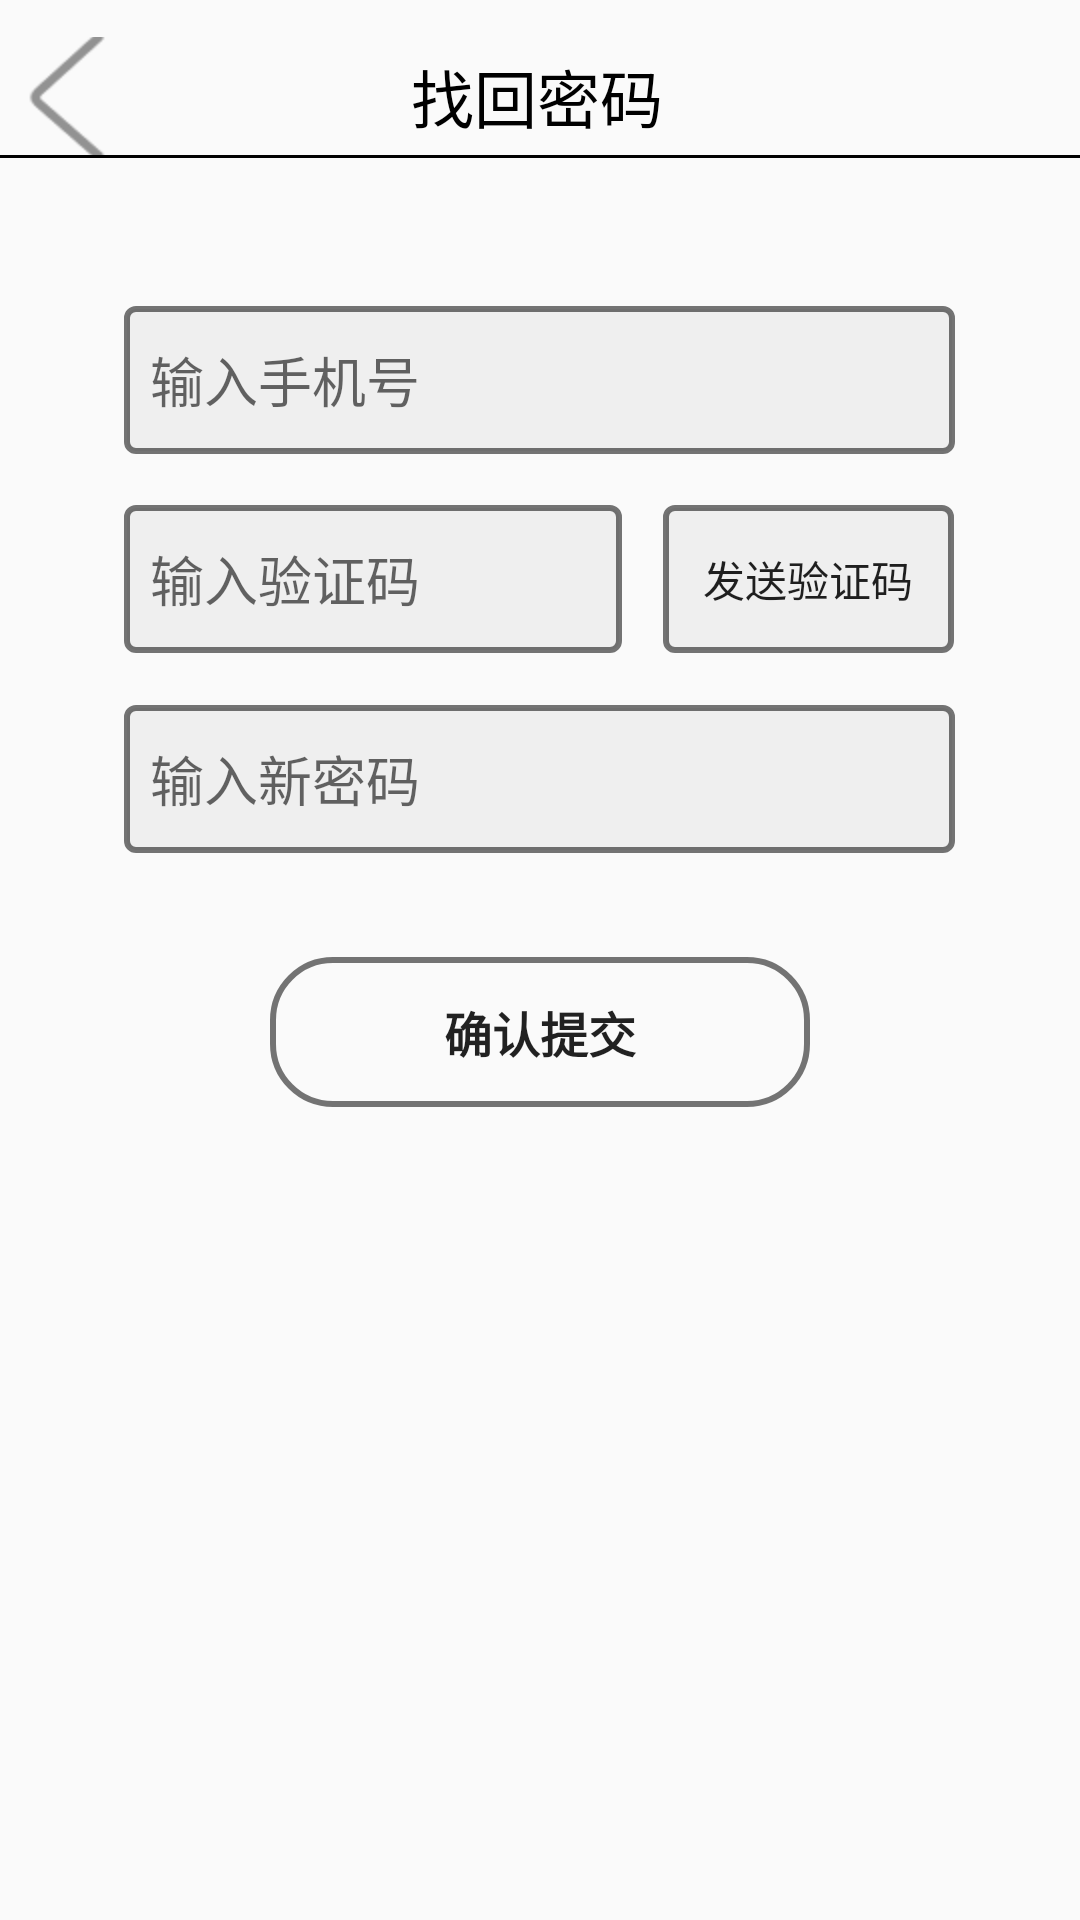

Screen size 1080px×1920px. Icon name, then its box in pixels as box(x1, y1, x2, y2):
back: box(30, 37, 104, 155)
